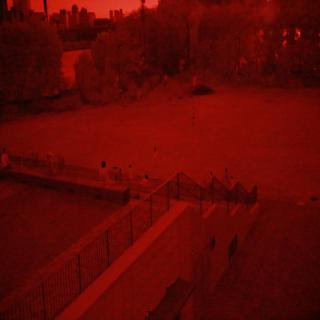person: (94, 154, 118, 181)
